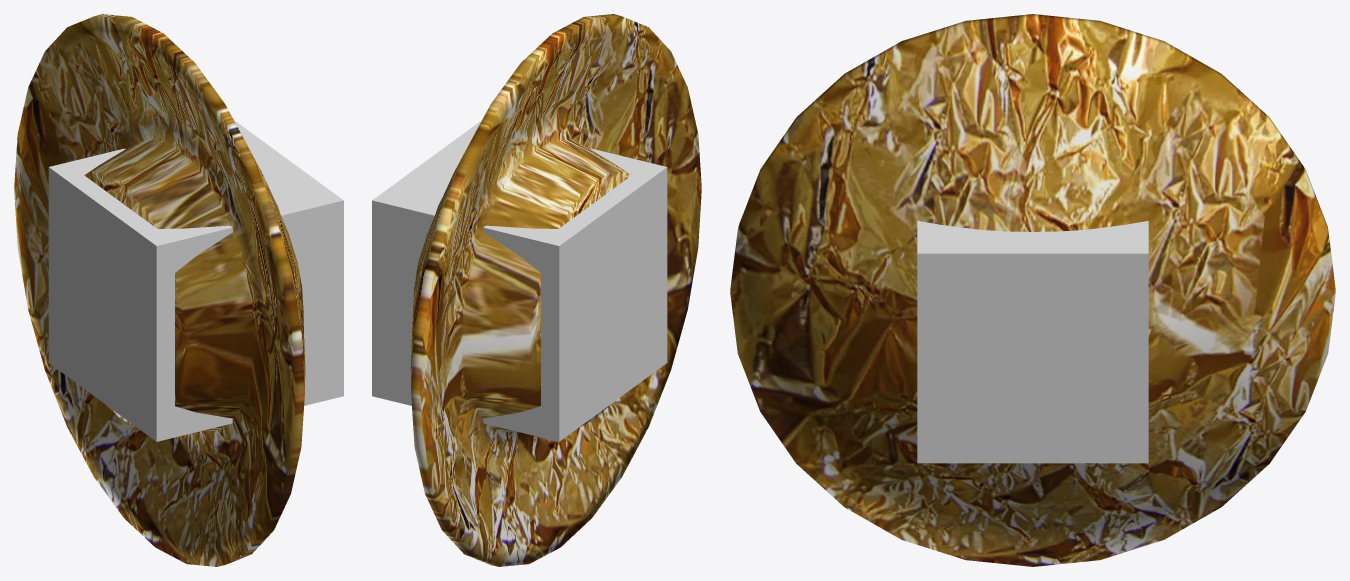
Rendered from huygens.glb.
3 views of the same model, side by side, from view 1: azimuth 30°, elevation 25°; view 2: azimuth 150°, elevation 25°; view 3: azimuth 270°, elevation 25° (orthographic). The views are drawn at different scales.
Visible parts, largest first — view 1: foil_gold_h, _root; view 2: foil_gold_h, _root; view 3: foil_gold_h, _root.
Part boxes in pixels (x1,y1,x2,y2): foil_gold_h: (14,14,305,566); _root: (48,121,343,441); foil_gold_h: (410,14,701,566); _root: (372,121,667,441); foil_gold_h: (730,14,1335,566); _root: (917,221,1148,463).
Bounding box in the file's own units: 1 × 2.62 × 2.62.
Materials: 2 (1 with a texture image).
